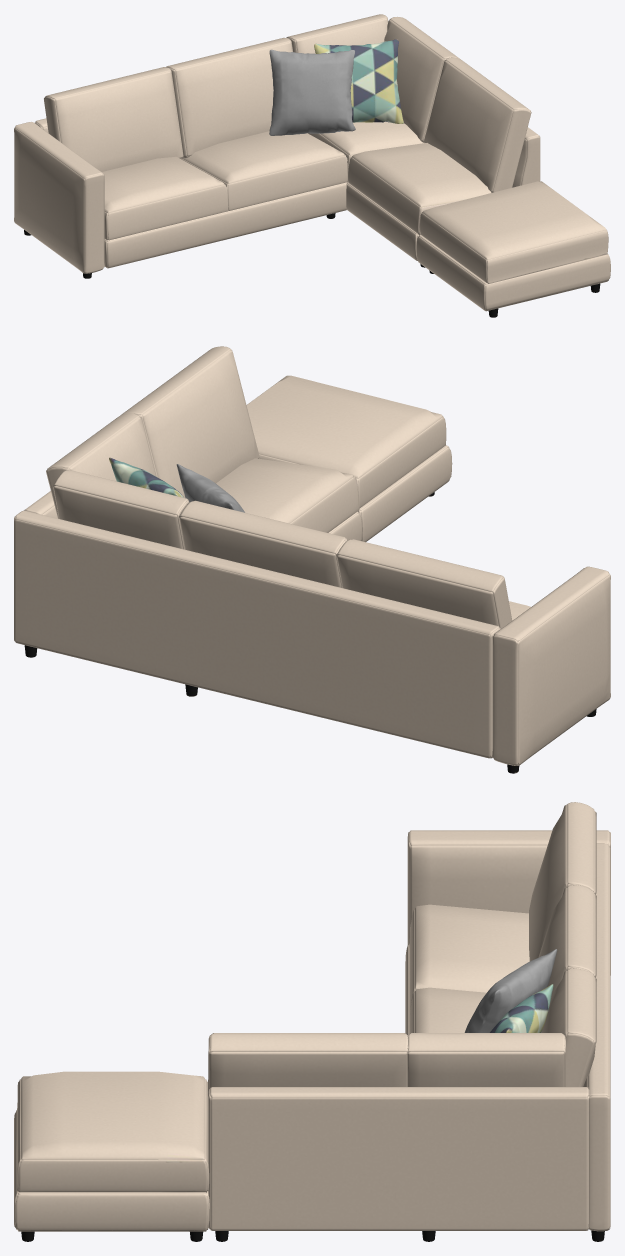
3 renders of one model, top to bottom at view 1: azimuth 30°, elevation 25°; view 2: azimuth 150°, elevation 25°; view 3: azimuth 270°, elevation 25°, orthographic. The views are drawn at different scales.
Visible parts, largest first — view 1: ____pCube39, ____pCube38, ____pCube25, ____pCube26, ____pCube31, ____pCube28, ____pCube29, ____pCube37, ____pCube7, ___Mesh, ____pCube41, ____pCube27 (+5 smaller); view 2: ____pCube14, ____pCube25, ____pCube39, ____pCube31, ____pCube38, ____pCube26, ____pCube37, ____pCube30, ____pCube27, ____pCube41, ___Mesh, Pillow1:Mesh (+1 smaller); view 3: ____pCube35, ____pCube39, ____pCube25, ____pCube31, ____pCube29, ____pCube27, ____pCube41, ____pCube14, ____pCube38, ____pCube30, ____pCube26, ___Mesh (+2 smaller).
Part boxes in pixels (x1,y1,x2,y2): ____pCube39: (419,181,608,283); ____pCube38: (44,67,183,171); ____pCube25: (14,122,104,273); ____pCube26: (165,37,292,158); ____pCube31: (424,57,531,192); ____pCube28: (181,131,347,210); ____pCube29: (102,156,228,240); ____pCube37: (348,143,491,235); ____pCube7: (104,182,346,268); ___Mesh: (269,49,355,135); ____pCube41: (416,235,610,311); ____pCube27: (384,17,459,142); ____pCube14: (14,510,500,758); ____pCube25: (492,566,610,765); ____pCube39: (246,375,446,508); ____pCube31: (121,346,259,497); ____pCube38: (336,539,512,628); ____pCube26: (179,500,347,587); ____pCube37: (216,458,359,532); ____pCube30: (53,470,189,549); ____pCube27: (46,413,156,518); ____pCube41: (358,445,452,541); ___Mesh: (176,464,244,512); Pillow1:Mesh: (109,457,183,497); ____pCube35: (208,1087,589,1230); ____pCube39: (17,1071,209,1192); ____pCube25: (407,830,610,975); ____pCube31: (208,1033,408,1090); ____pCube29: (409,904,529,1021); ____pCube27: (407,1033,565,1086); ____pCube41: (14,1110,209,1231); ____pCube14: (583,843,610,1231); ____pCube38: (529,802,596,961); ____pCube30: (541,968,596,1086); ____pCube26: (538,885,596,1001); ___Mesh: (464,949,557,1032).
Bounding box in the file's own units: 1.6 × 0.5399 × 1.49.
1 material, 1 textured.
